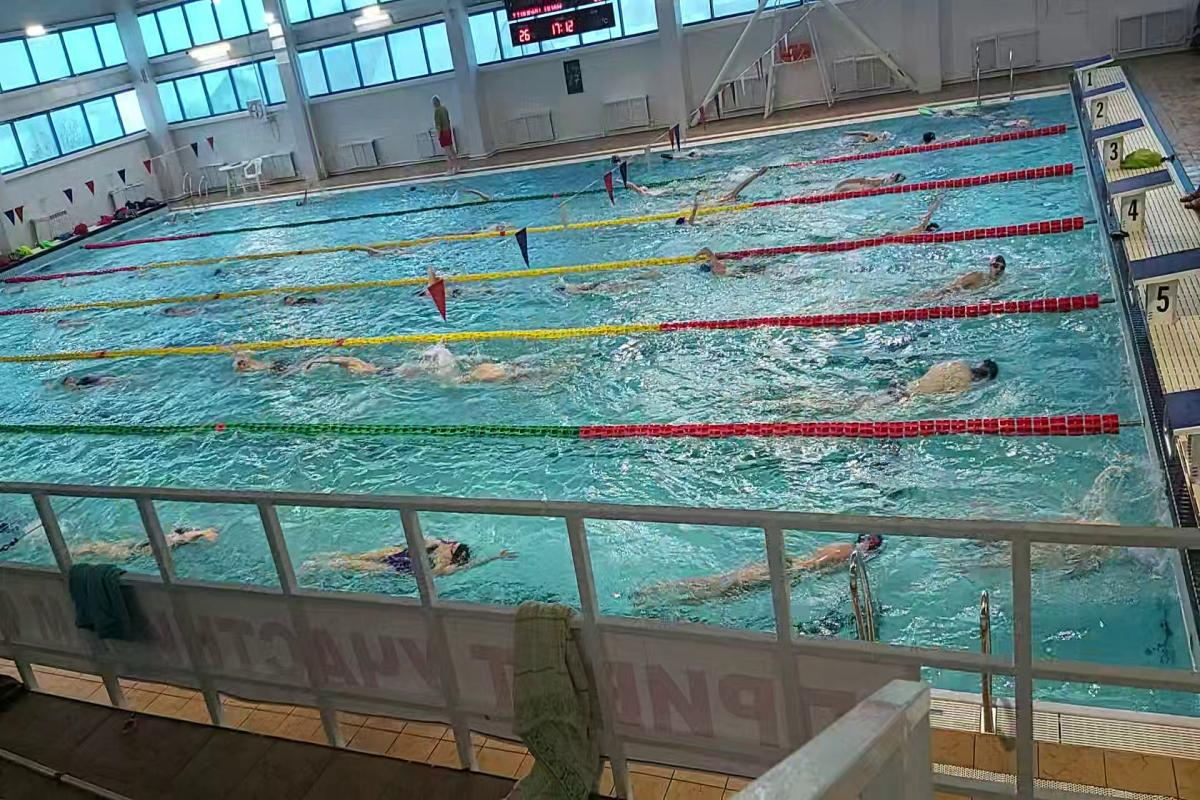swimmer: (632, 526, 898, 606), (882, 322, 1022, 420), (292, 528, 482, 584), (70, 516, 226, 566), (938, 249, 1026, 307), (316, 346, 432, 386), (47, 362, 154, 401), (464, 355, 570, 394), (543, 270, 668, 299), (691, 244, 781, 284), (223, 345, 295, 379), (823, 169, 921, 190), (345, 242, 413, 271), (902, 203, 958, 238), (666, 197, 722, 228), (279, 293, 347, 314), (156, 300, 218, 322), (718, 177, 768, 202)
